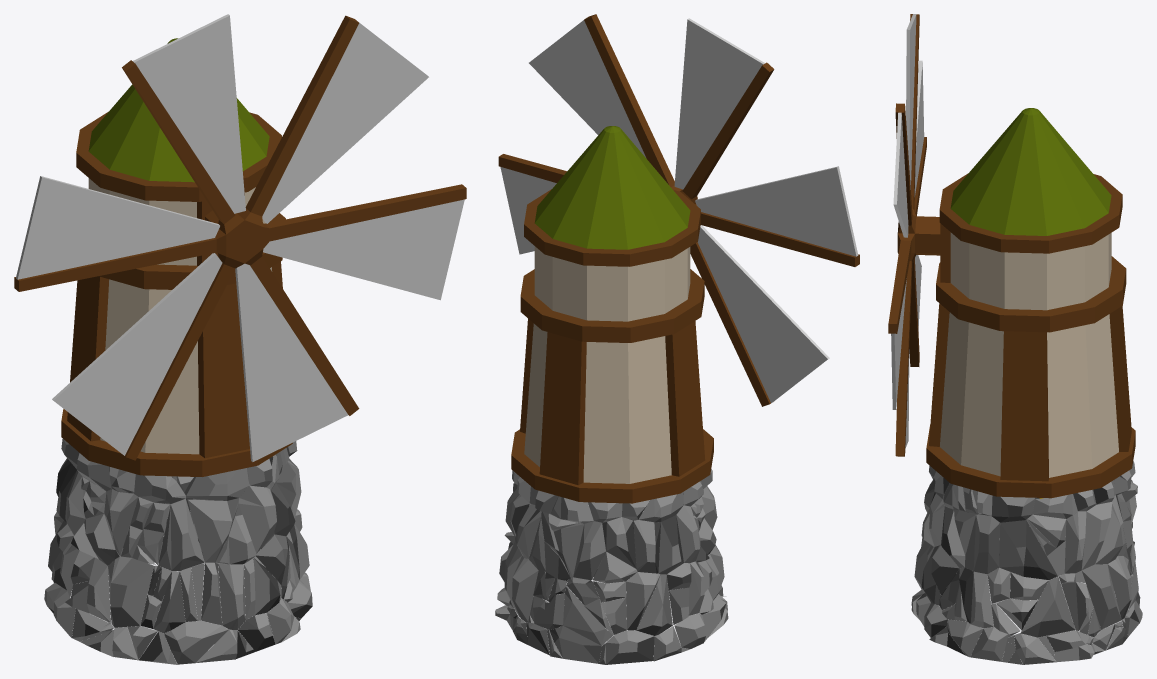
The model's file is windmill.fbx.
3 renders of one model, left to right at view 1: azimuth 30°, elevation 25°; view 2: azimuth 150°, elevation 25°; view 3: azimuth 270°, elevation 25°, orthographic. The views are drawn at different scales.
Parts seen in each view (by area): view 1: windmill.001, windmill; view 2: windmill, windmill.001; view 3: windmill, windmill.001.
Boxes of the visible parts, x1,y1,x2,y2 form: windmill.001: (14,14,466,461); windmill: (44,38,312,664); windmill: (495,126,728,664); windmill.001: (498,14,859,406); windmill: (911,108,1142,664); windmill.001: (888,14,940,456).
Size of the model in its own units: 2029 by 5119 by 3538.
